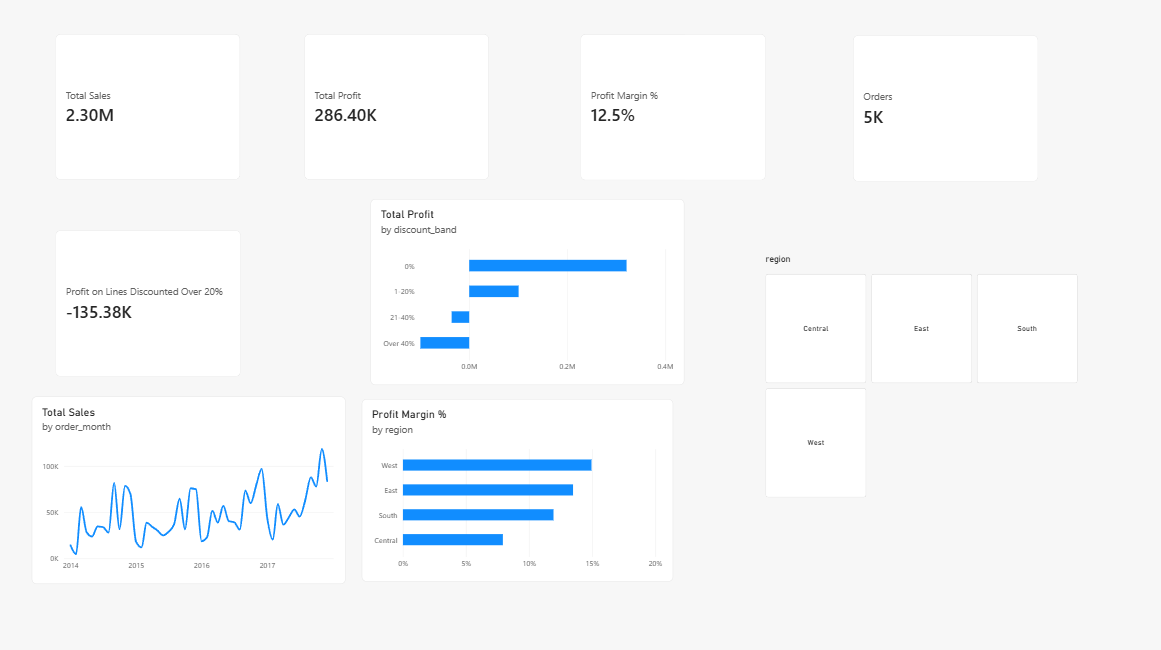

What the dashboard file says about the page in this screenshot:
{"tool":"powerbi","page":{"name":"Sales Dashboard","canvas":[1920,1080],"ordinal":0},"visuals":[{"type":"cardVisual","fields":{"Data":["orders_clean.Total Sales"]},"box":[94.7,57.6,304.6,240.8],"z":0},{"type":"cardVisual","fields":{"Data":["orders_clean.Total Profit"]},"box":[504.3,57.6,304.6,240.8],"z":1000},{"type":"cardVisual","fields":{"Data":["orders_clean.Profit Margin %"]},"box":[959.2,57.6,305,241],"z":2000},{"type":"cardVisual","fields":{"Data":["orders_clean.Orders"]},"box":[1407.9,59.7,305,241],"z":3000},{"type":"cardVisual","fields":{"Data":["orders_clean.Profit on Lines Discounted Over 20%"]},"box":[94.7,380.8,305,241],"z":4000},{"type":"clusteredBarChart","fields":{"Category":["orders_clean.region"],"Y":["orders_clean.Profit Margin %"]},"box":[599,658.7,512.5,300.5],"z":4001},{"type":"clusteredBarChart","fields":{"Category":["orders_clean.discount_band"],"Y":["orders_clean.Total Profit"]},"box":[613.4,329.3,516.6,306.7],"z":4002},{"type":"lineChart","fields":{"Category":["orders_clean.order_month"],"Y":["orders_clean.Total Sales"]},"box":[55.6,654.5,516.6,308.7],"z":4003},{"type":"advancedSlicerVisual","fields":{"Values":["orders_clean.region"]},"box":[1263.8,419.9,516.6,401.4],"z":4004}]}

Visuals, with their boxes in screenshot pixels (x1, y1, x2, y2), scaled from the page's 1920x1080 canvas onto the 1161x650 screenshot:
cardVisual - orders_clean.Total Sales: bbox=(57, 35, 241, 180)
cardVisual - orders_clean.Total Profit: bbox=(305, 35, 489, 180)
cardVisual - orders_clean.Profit Margin %: bbox=(580, 35, 764, 180)
cardVisual - orders_clean.Orders: bbox=(851, 36, 1036, 181)
cardVisual - orders_clean.Profit on Lines Discounted Over 20%: bbox=(57, 229, 242, 374)
clusteredBarChart - orders_clean.region x orders_clean.Profit Margin %: bbox=(362, 396, 672, 577)
clusteredBarChart - orders_clean.discount_band x orders_clean.Total Profit: bbox=(371, 198, 683, 383)
lineChart - orders_clean.order_month x orders_clean.Total Sales: bbox=(34, 394, 346, 580)
advancedSlicerVisual - orders_clean.region: bbox=(764, 253, 1077, 494)
